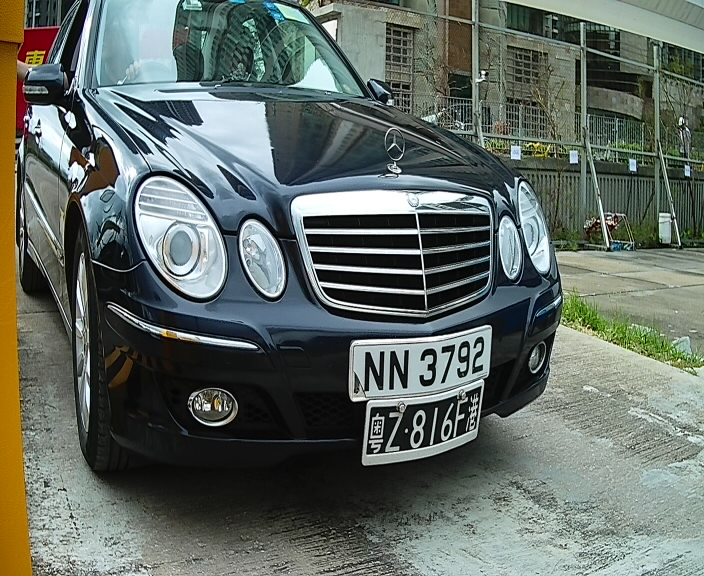License Plate: (341, 322, 499, 415)
